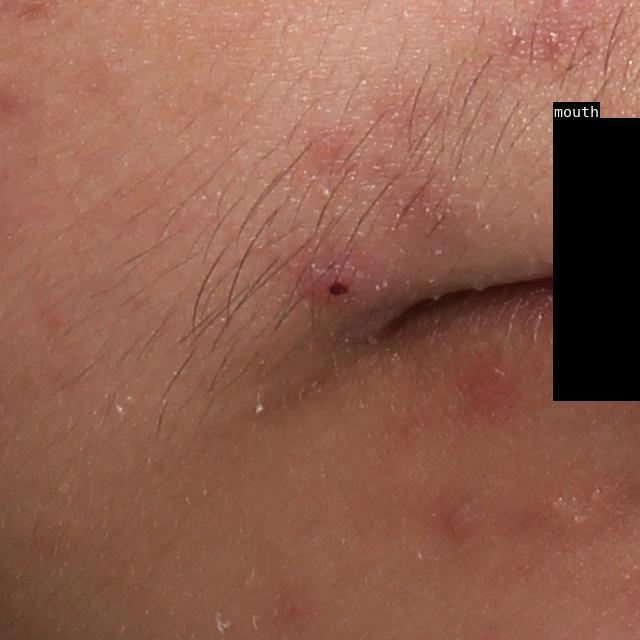papule: (298, 254, 379, 313), (457, 350, 526, 401), (443, 499, 485, 542)
